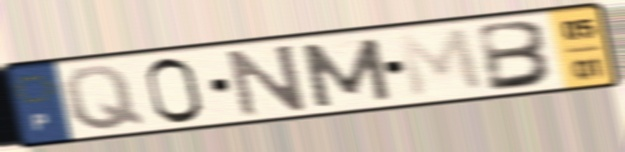0: (142, 55, 207, 126)
B: (475, 18, 558, 95)
M: (295, 35, 397, 111), (393, 24, 489, 100)
N: (223, 41, 312, 120)
Q: (60, 63, 149, 133)
